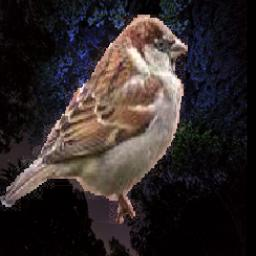Sparrow: (0, 15, 188, 224)
